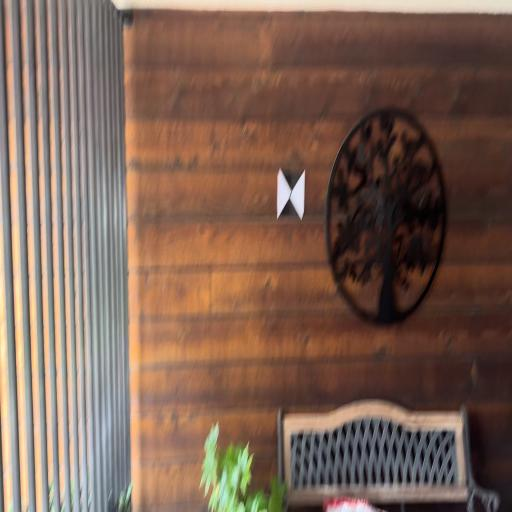target: (278, 170, 304, 220)
